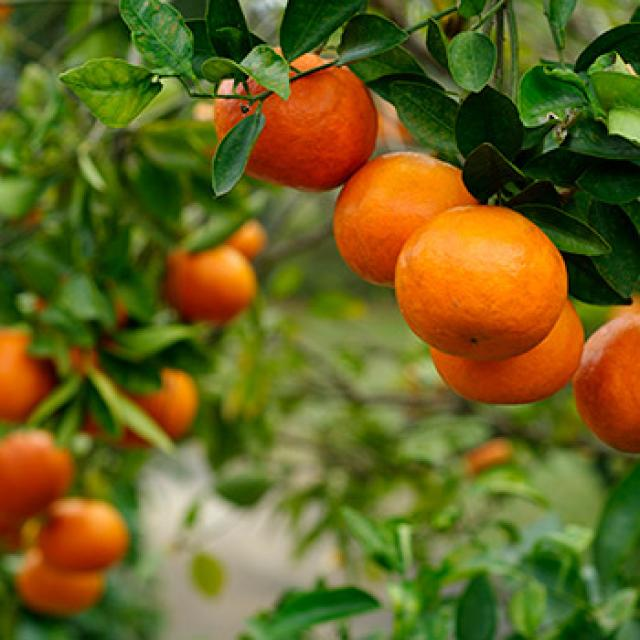Orange: (179, 37, 384, 210), (395, 198, 576, 360), (133, 231, 256, 340), (0, 427, 91, 521)
